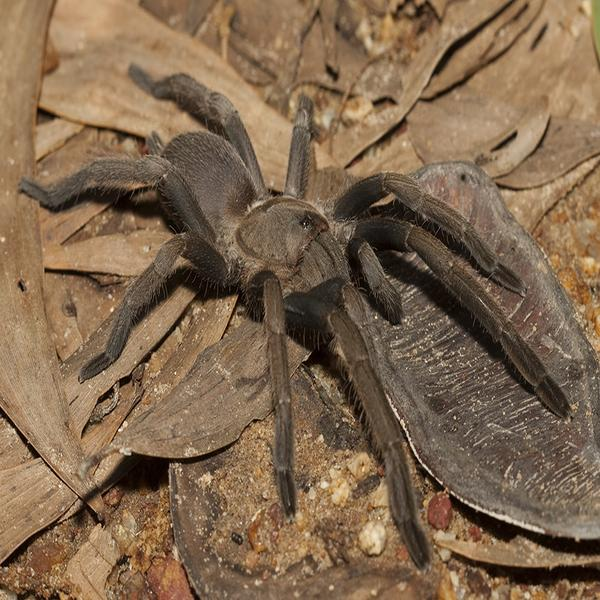Tarantula Spider: (46, 81, 562, 547)
